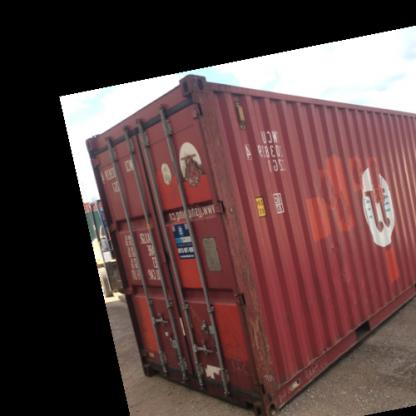Damage: (210, 168, 252, 300), (191, 77, 232, 168), (245, 295, 278, 403), (197, 352, 240, 394), (177, 302, 213, 332)
